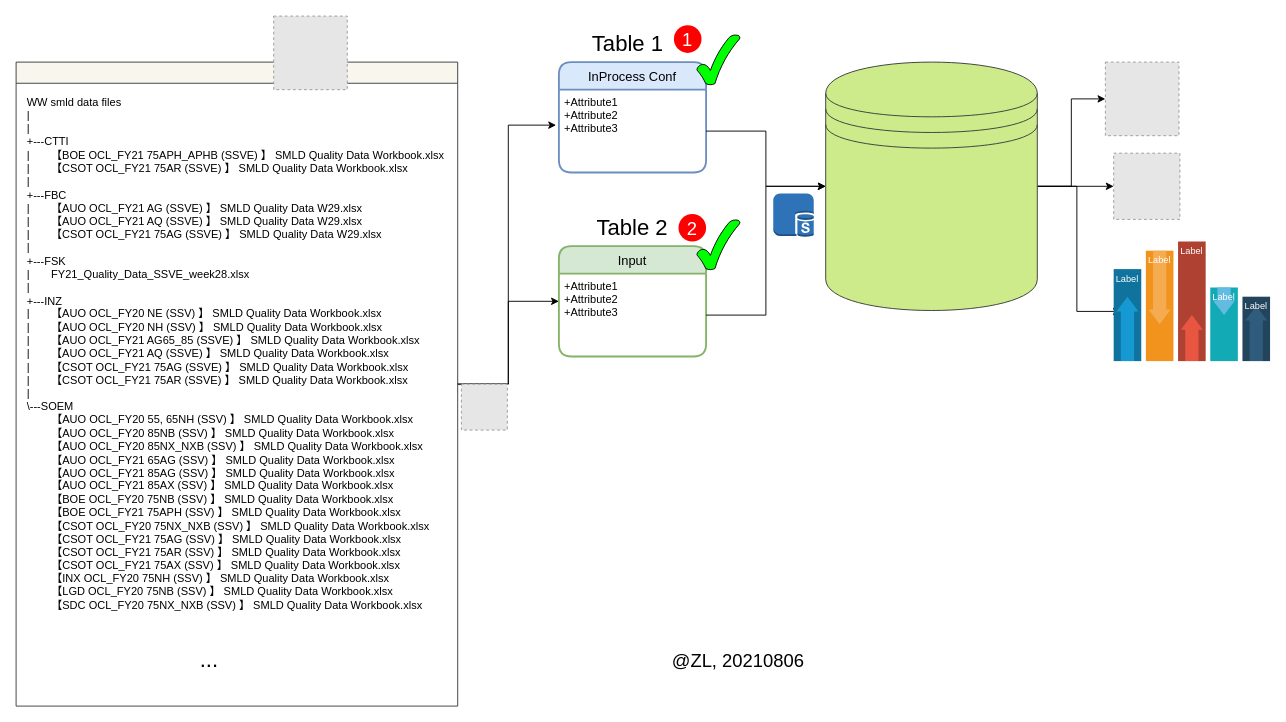
The diagram is 1286 pixels wide and 722 high, and some of its shapes have lost their labels. Grey dashed boxes stand in for pictures. The shapes that lost their labels are listed below. From the top down, each one's box as (x1, y1, x2, y2) in pixels, then its label:
(825, 61, 1037, 310): WW Panel SMLD Database
(15, 61, 458, 706): SRC files
